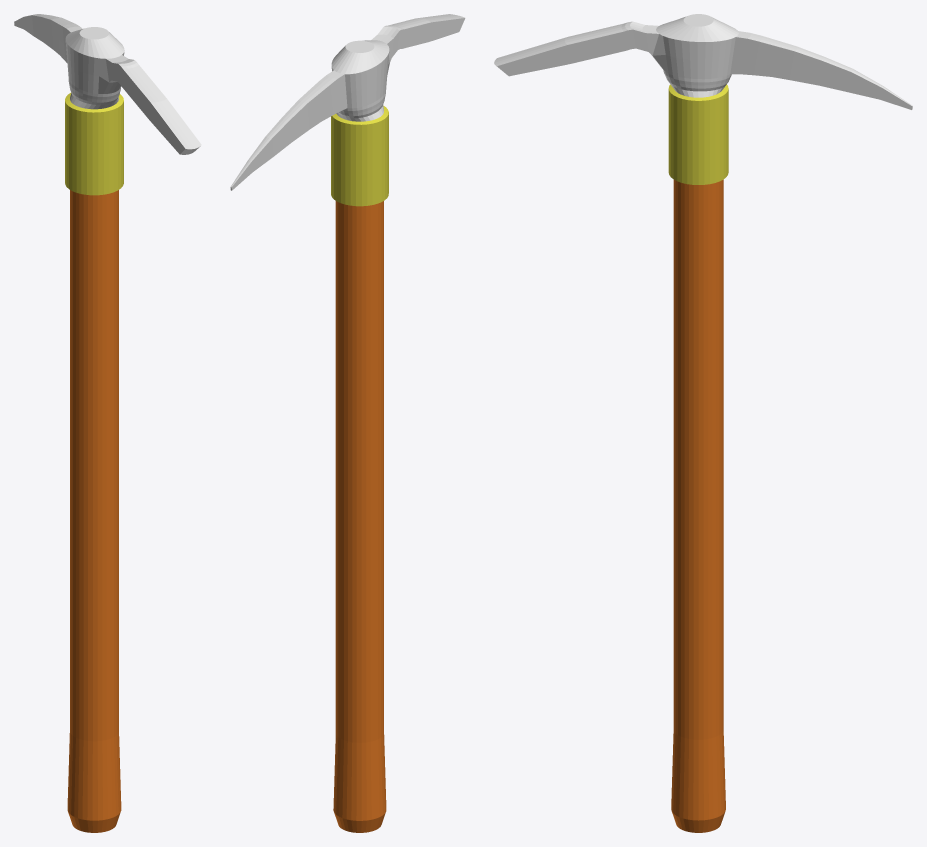
Rendered from pico.fbx.
The picture shows the model from 3 angles, left to right: view 1: azimuth 30°, elevation 25°; view 2: azimuth 150°, elevation 25°; view 3: azimuth 270°, elevation 25°; orthographic projection. The views are drawn at different scales.
Parts seen in each view (by area): view 1: pico; view 2: pico; view 3: pico.
Boxes of the visible parts, x1=… form: pico: x1=14, y1=14, x2=201, y2=832; pico: x1=230, y1=14, x2=465, y2=832; pico: x1=494, y1=14, x2=912, y2=832.
Bounding box in the file's own units: 14.83 × 216 × 102.
